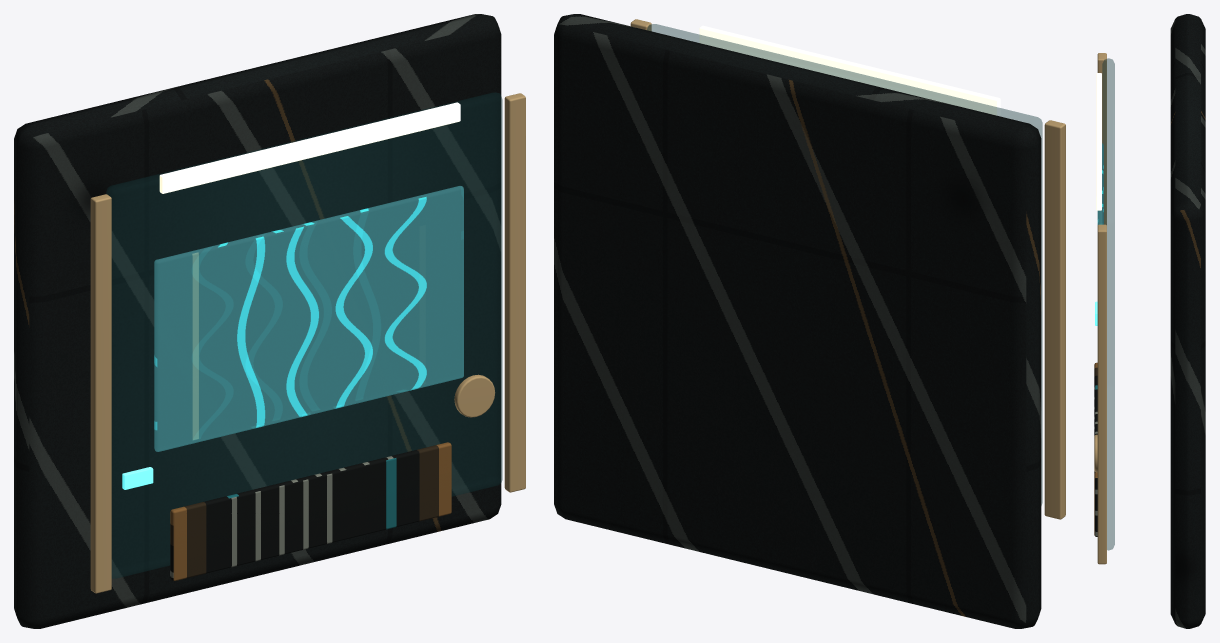
The model's file is hp_room_museum_voice_booth.glb.
3 renders of one model, left to right at view 1: azimuth 30°, elevation 25°; view 2: azimuth 150°, elevation 25°; view 3: azimuth 270°, elevation 25°, orthographic. The views are drawn at different scales.
Parts seen in each view (by area): view 1: voice_booth_back_panel, voice_glass_front, voice_waveform_screen, voice_label_panel, booth_vertical_brass_frame, booth_vertical_brass_frame.001, warm_audio_sample_toplight, yellow_sequence_clue_lens_socket; view 2: voice_booth_back_panel, booth_vertical_brass_frame, warm_audio_sample_toplight, voice_glass_front; view 3: voice_booth_back_panel, voice_glass_front, booth_vertical_brass_frame.001, warm_audio_sample_toplight, booth_vertical_brass_frame, voice_label_panel, voice_waveform_screen.
Boxes of the visible parts, x1,y1,x2,y2 form: voice_booth_back_panel: (14,14,501,628); voice_glass_front: (106,92,502,578); voice_waveform_screen: (154,186,463,451); voice_label_panel: (170,442,451,580); booth_vertical_brass_frame: (90,194,111,593); booth_vertical_brass_frame.001: (504,93,525,492); warm_audio_sample_toplight: (159,102,460,193); yellow_sequence_clue_lens_socket: (454,374,495,417); voice_booth_back_panel: (554,14,1041,628); booth_vertical_brass_frame: (1044,120,1065,519); warm_audio_sample_toplight: (699,25,1000,115); voice_glass_front: (647,24,1042,505); voice_booth_back_panel: (1170,14,1205,628); voice_glass_front: (1102,58,1114,550); booth_vertical_brass_frame.001: (1097,224,1106,564); warm_audio_sample_toplight: (1096,73,1101,210); booth_vertical_brass_frame: (1097,53,1106,224); voice_label_panel: (1094,362,1097,536); voice_waveform_screen: (1097,143,1103,224).
Size of the model in its own units: 1.94 by 1.94 by 0.4573.
Materials: 7 (4 with a texture image).
